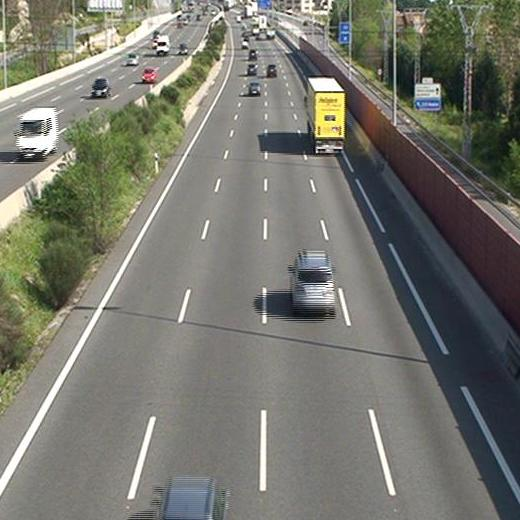car: (291, 252, 334, 311), (247, 83, 259, 95), (267, 64, 277, 77), (247, 63, 256, 74), (248, 49, 256, 59)
truck: (308, 77, 345, 153)
